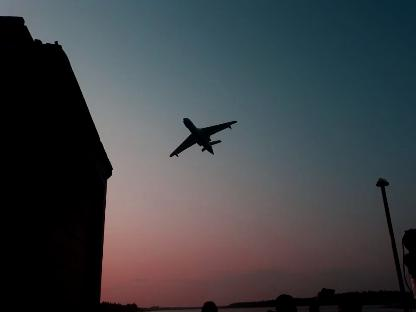B52: (170, 117, 238, 157)
